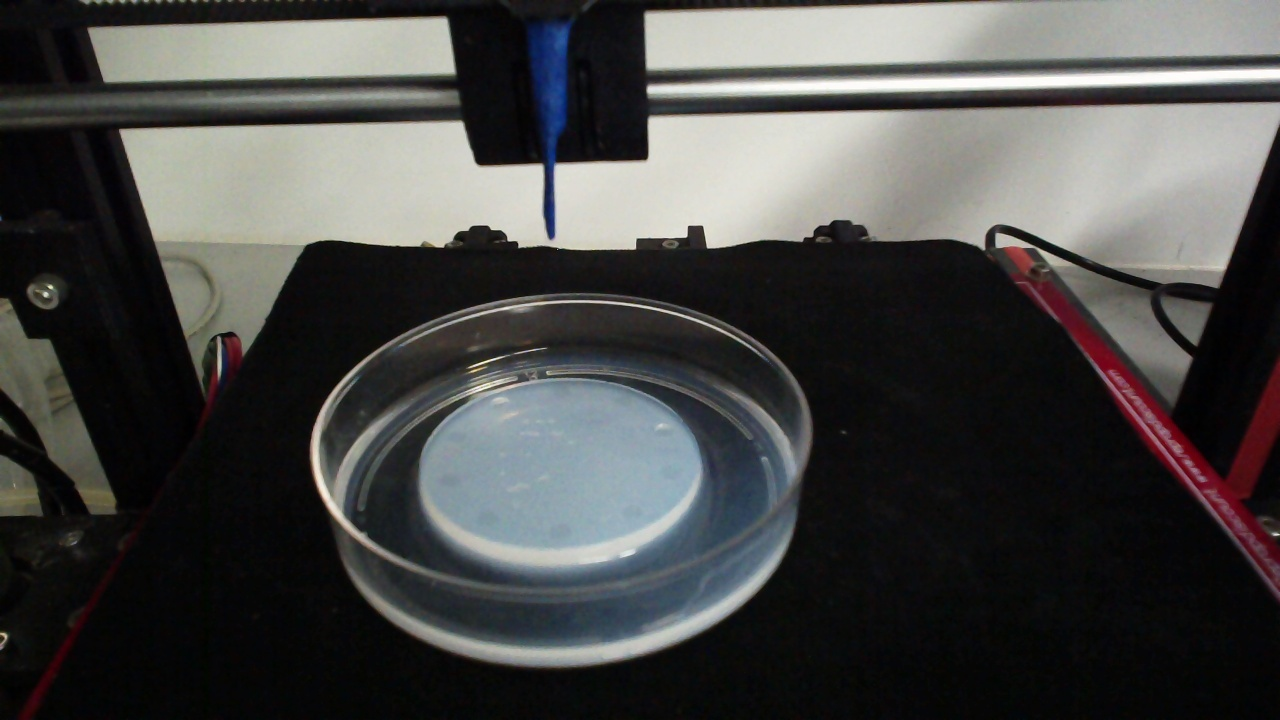groove: (658, 460, 684, 483), (617, 502, 644, 524), (437, 467, 461, 491), (545, 525, 575, 542), (475, 510, 501, 529), (445, 427, 472, 445), (650, 421, 675, 440), (549, 384, 573, 402), (489, 395, 512, 411), (613, 392, 634, 408)
needle: (531, 21, 570, 242)
